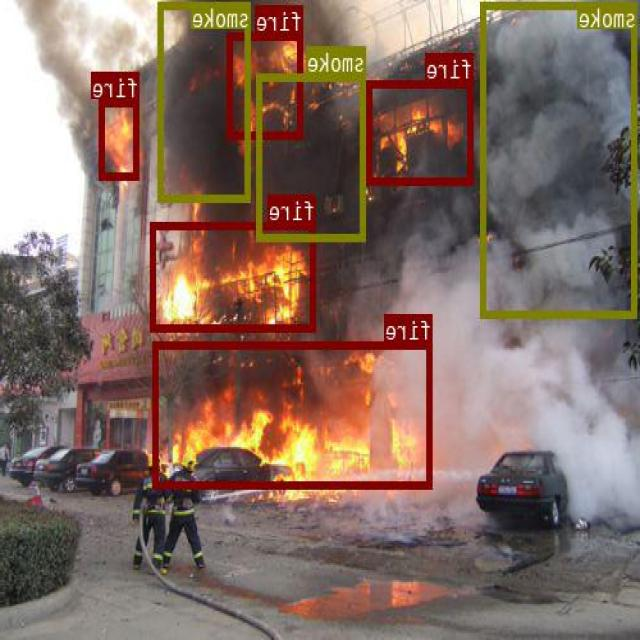fire: (154, 340, 433, 487), (152, 222, 316, 331), (368, 80, 474, 184), (229, 31, 304, 137), (101, 97, 140, 178)
smoke: (482, 2, 638, 316), (258, 73, 367, 241), (159, 1, 251, 200)
